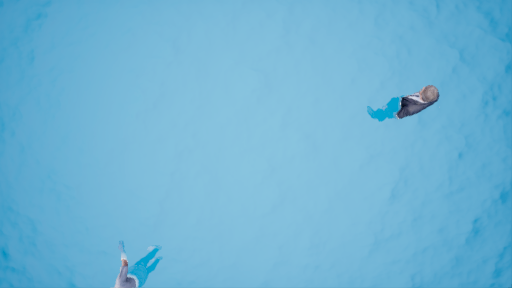person: (365, 81, 447, 130), (109, 234, 170, 288)
